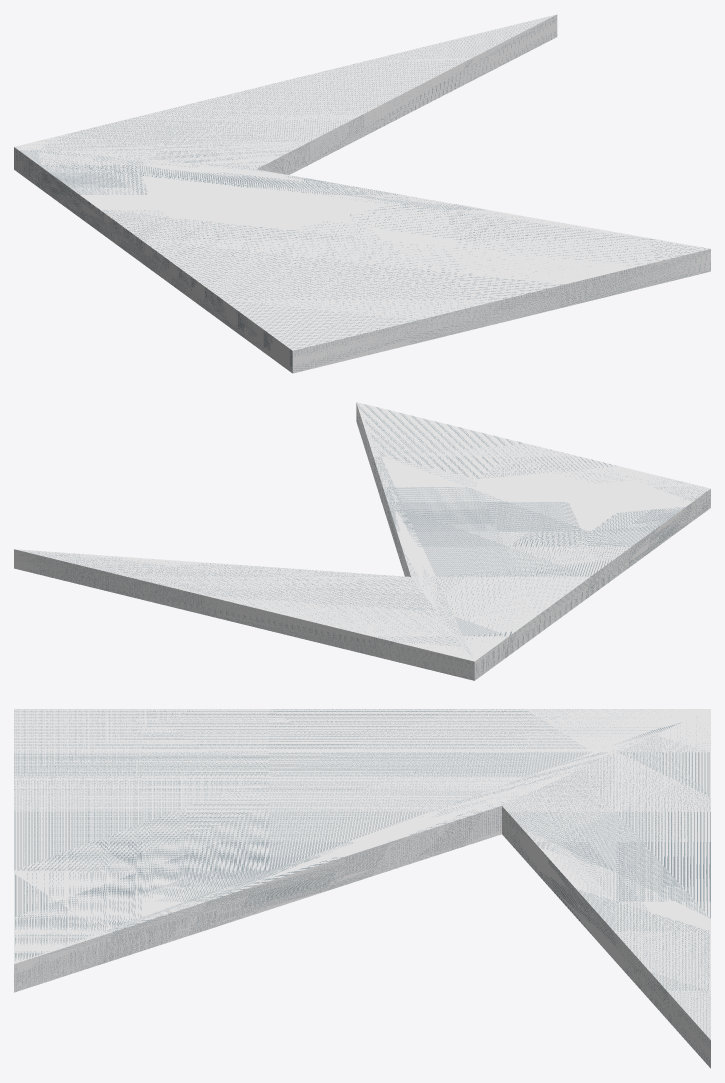
Rendered from senti-mesh-hate-3.dae.
3 renders of one model, top to bottom at view 1: azimuth 30°, elevation 25°; view 2: azimuth 150°, elevation 25°; view 3: azimuth 270°, elevation 25°, orthographic. The views are drawn at different scales.
Parts seen in each view (by area): view 1: group_0; view 2: group_0; view 3: group_0.
Part boxes in pixels (x1,y1,x2,y2): group_0: (14,14,710,373); group_0: (14,402,710,680); group_0: (14,709,710,1068).
Bounding box in the file's own units: 25.06 × 22.27 × 1.
